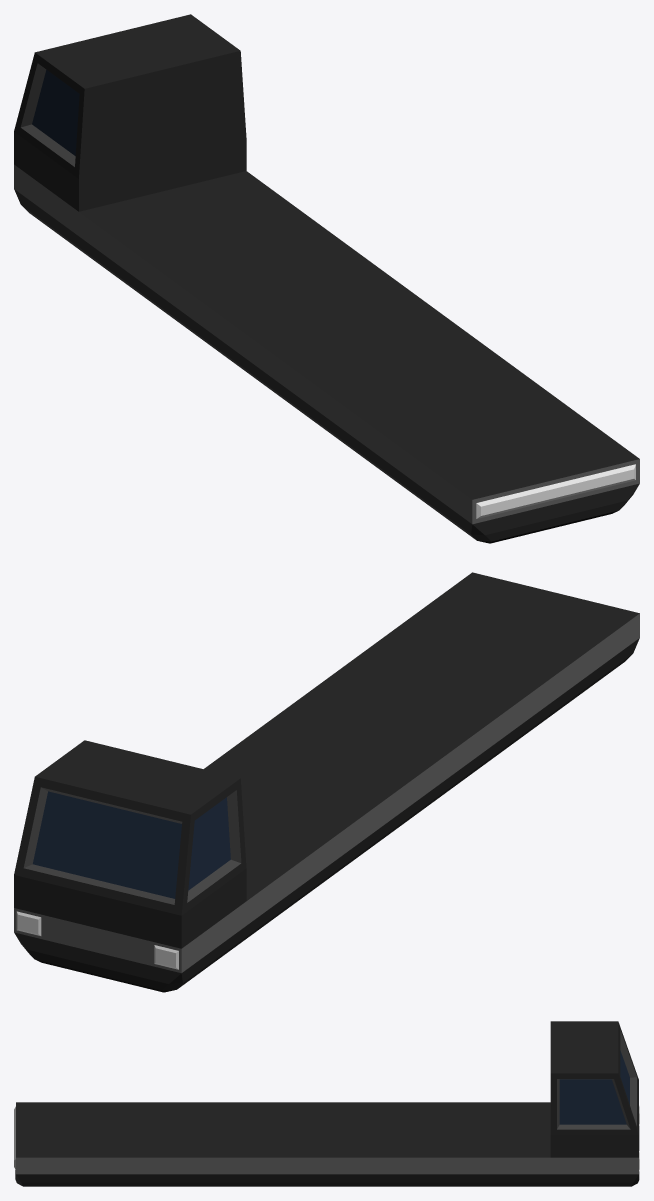
File: Hauler.fbx
3 views of the same model, one above another, from view 1: azimuth 30°, elevation 25°; view 2: azimuth 150°, elevation 25°; view 3: azimuth 270°, elevation 25° (orthographic). The views are drawn at different scales.
Visible parts, largest first — view 1: Hauler; view 2: Hauler; view 3: Hauler.
Boxes of the visible parts, x1=… form: Hauler: x1=14, y1=14, x2=639, y2=543; Hauler: x1=14, y1=572, x2=639, y2=992; Hauler: x1=14, y1=1021, x2=639, y2=1186.
Bounding box in the file's own units: 260 × 259 × 1238.
